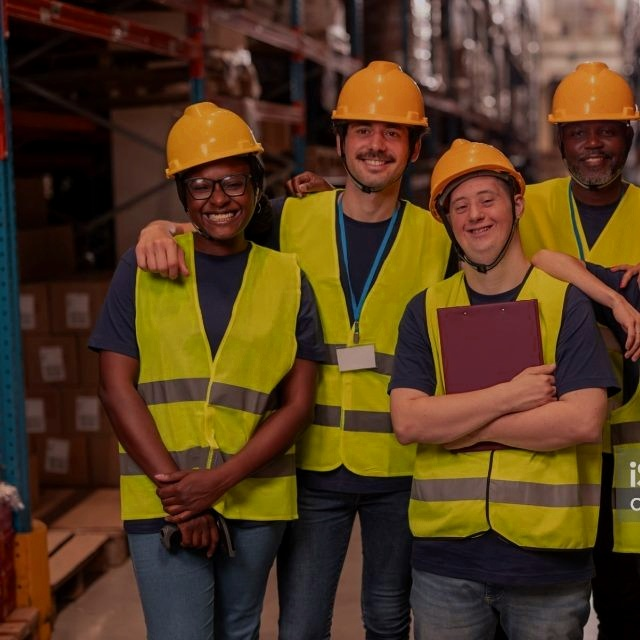Con_Chaleco: (120, 233, 300, 517), (414, 266, 598, 542), (275, 191, 440, 474)
